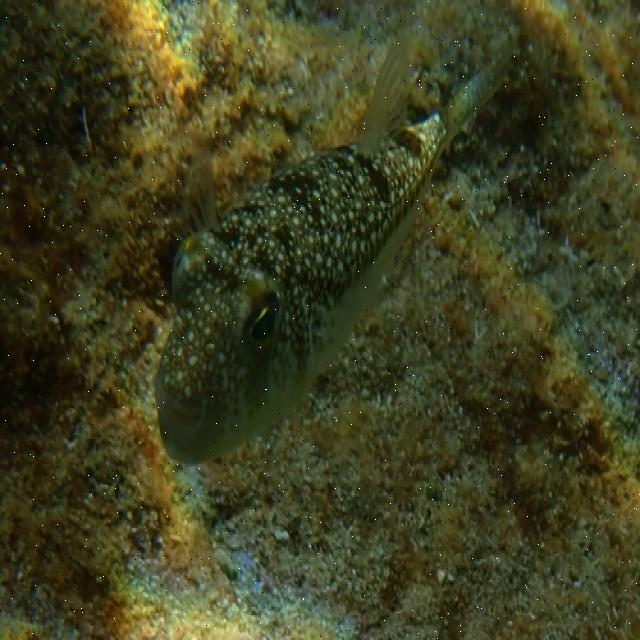Balik: (155, 46, 509, 461)
